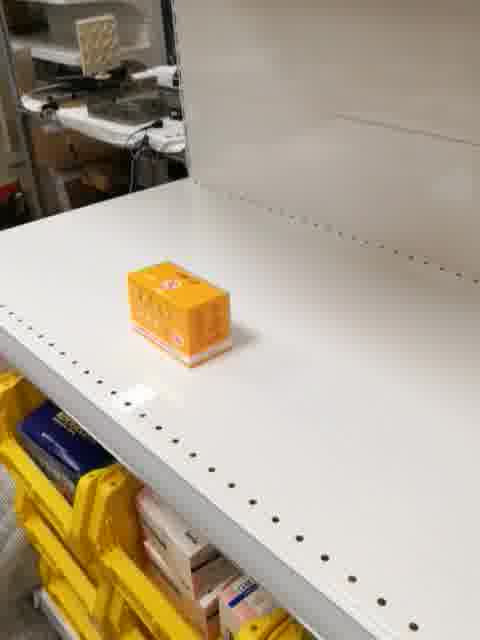jasminetea: (128, 260, 233, 370)
